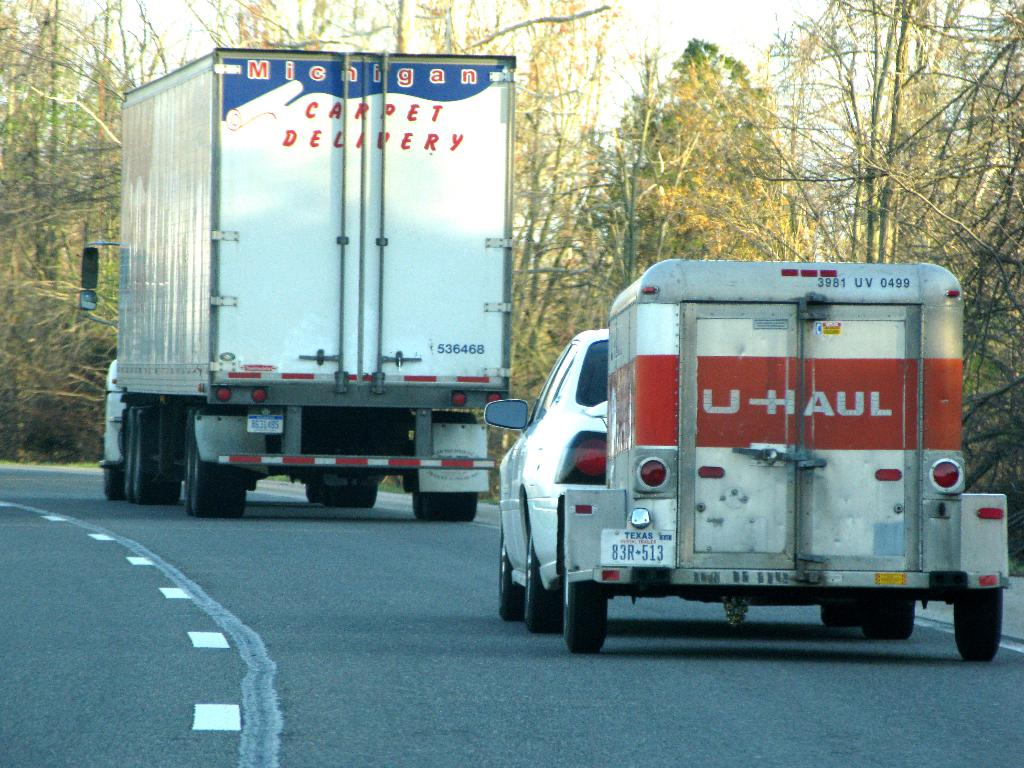Car: (556, 260, 1008, 649), (483, 330, 609, 624)
